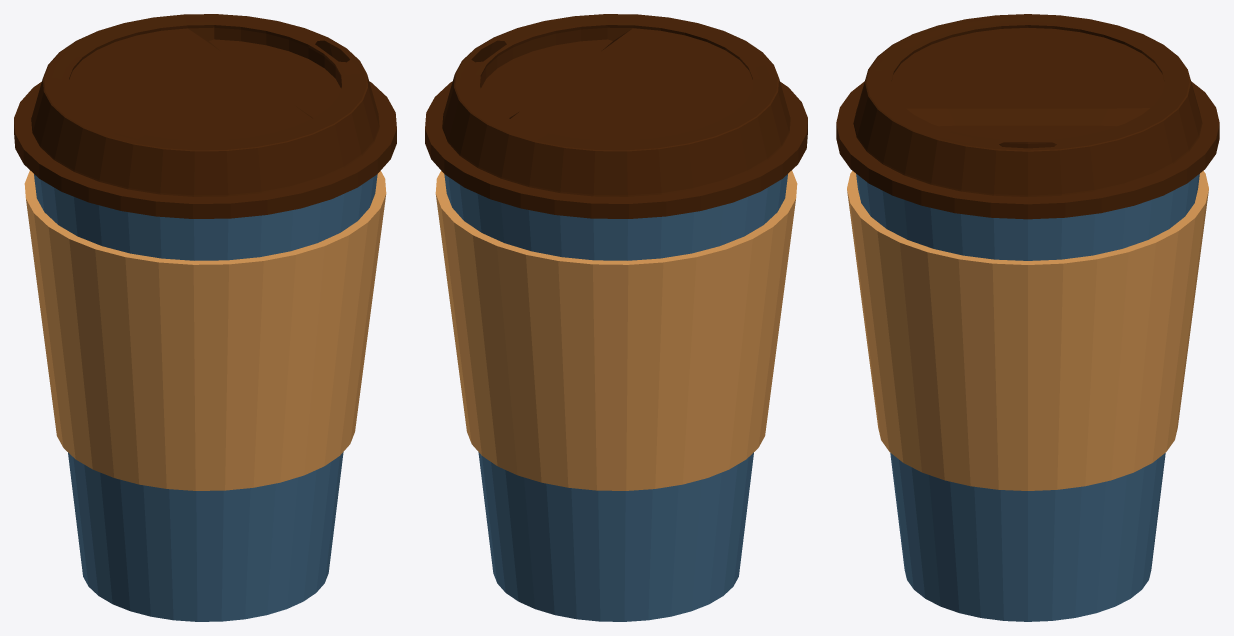
The model's file is CoffeeCup_.fbx.
The picture shows the model from 3 angles, left to right: view 1: azimuth 30°, elevation 25°; view 2: azimuth 150°, elevation 25°; view 3: azimuth 270°, elevation 25°; orthographic projection.
Parts seen in each view (by area): view 1: CofeeCup; view 2: CofeeCup; view 3: CofeeCup.
Boxes of the visible parts, x1,y1,x2,y2 form: CofeeCup: (14,14,396,621); CofeeCup: (425,14,807,621); CofeeCup: (836,14,1219,621).
Size of the model in its own units: 311 by 436 by 311.
